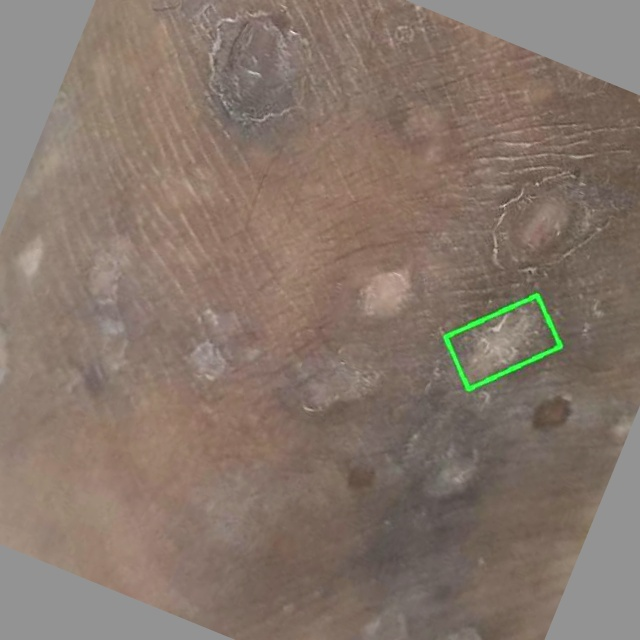Contact Dermatitis: (445, 295, 560, 389)
